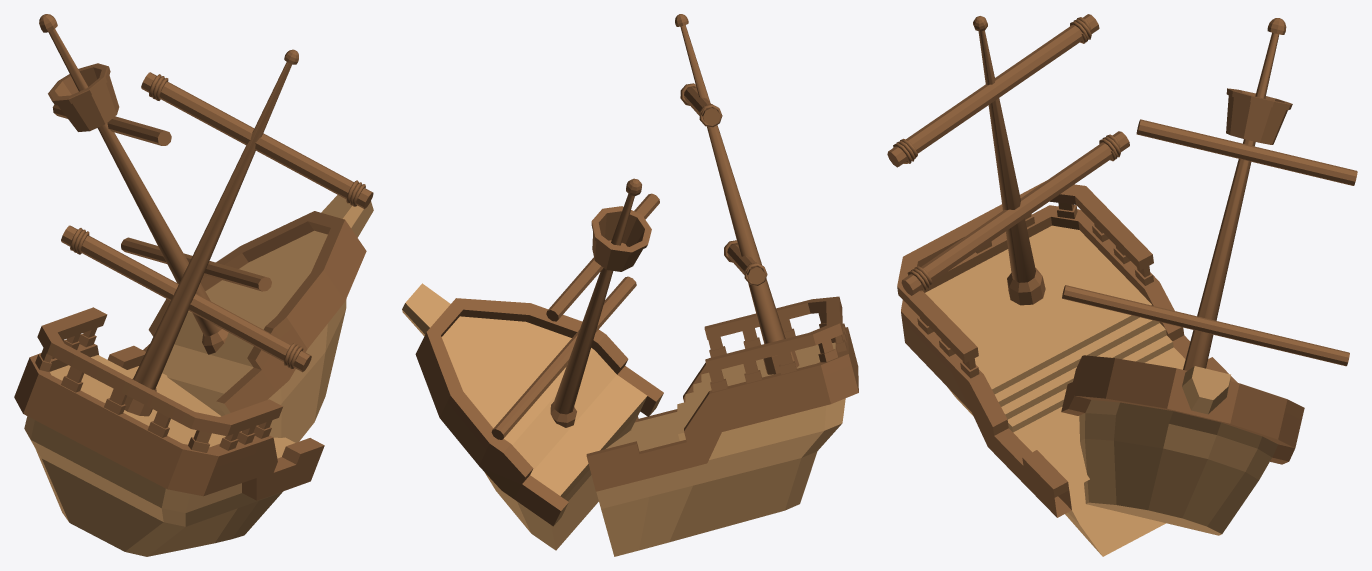
The model's file is SM_Obstacle_04.fbx.
3 views of the same model, side by side, from view 1: azimuth 30°, elevation 25°; view 2: azimuth 150°, elevation 25°; view 3: azimuth 270°, elevation 25° (orthographic). The views are drawn at different scales.
Visible parts, largest first — view 1: polySurface35.006; view 2: polySurface35.006; view 3: polySurface35.006.
Part boxes in pixels (bbox=[...]): polySurface35.006: bbox=[14, 14, 373, 556]; polySurface35.006: bbox=[402, 14, 858, 556]; polySurface35.006: bbox=[887, 14, 1357, 556].
Bounding box in the file's own units: 14.97 × 18.01 × 14.36.
